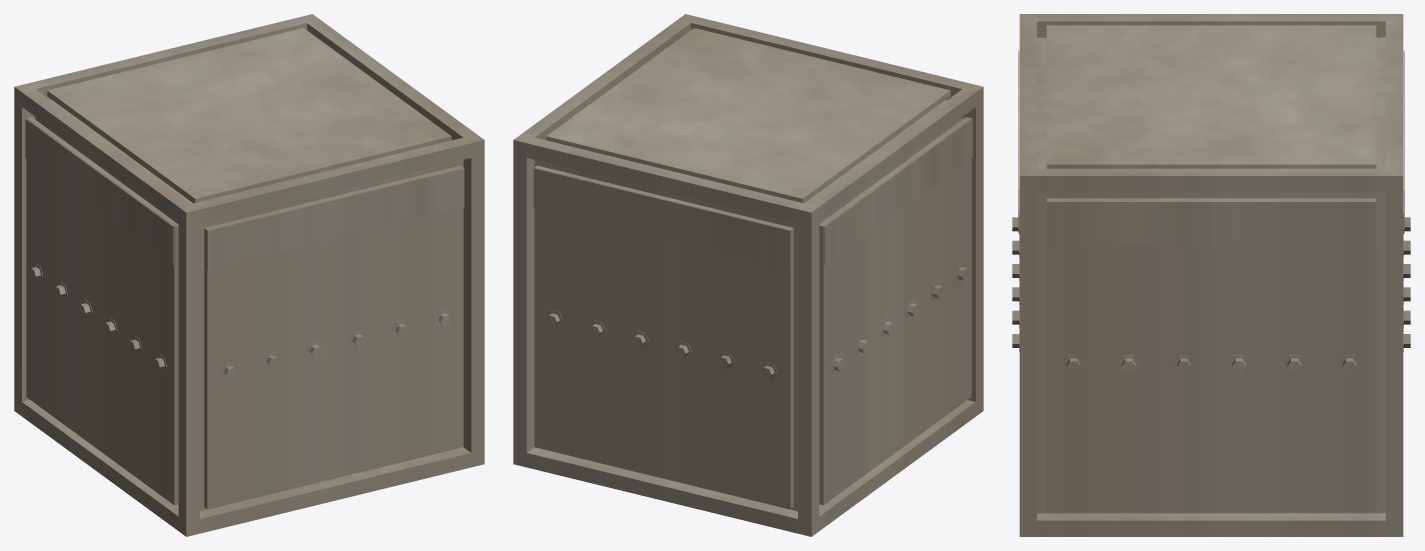
Rendered from ashpier-wall.glb.
3 renders of one model, left to right at view 1: azimuth 30°, elevation 25°; view 2: azimuth 150°, elevation 25°; view 3: azimuth 270°, elevation 25°, orthographic. The views are drawn at different scales.
Parts seen in each view (by area): view 1: AshpierWall; view 2: AshpierWall; view 3: AshpierWall.
Boxes of the visible parts, x1,y1,x2,y2 form: AshpierWall: (14, 14, 484, 536); AshpierWall: (513, 14, 983, 536); AshpierWall: (1012, 14, 1410, 536).
Size of the model in its own units: 1 by 1 by 1.
1 material, 1 textured.
